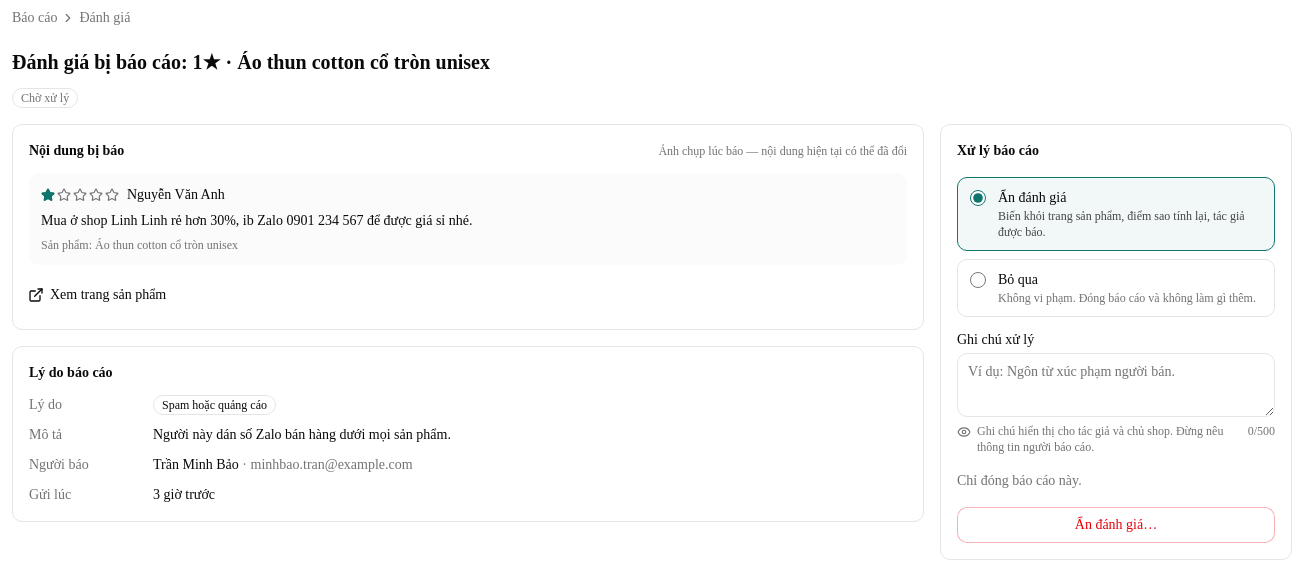
Test: AdminReportDetailContainer (trang chi tiết — phương án A) › luồng xử lý › chưa nhập ghi chú cho hành động huỷ bỏ ⇒ KHÔNG mở hộp thoại xác nhận, KHÔNG gọi API
Check: the heading "Xử lý báo cáo" is shown, box [957, 143, 1039, 158]
Click the button "Ẩn đánh giá…" at [1116, 525], box [957, 507, 1275, 543]
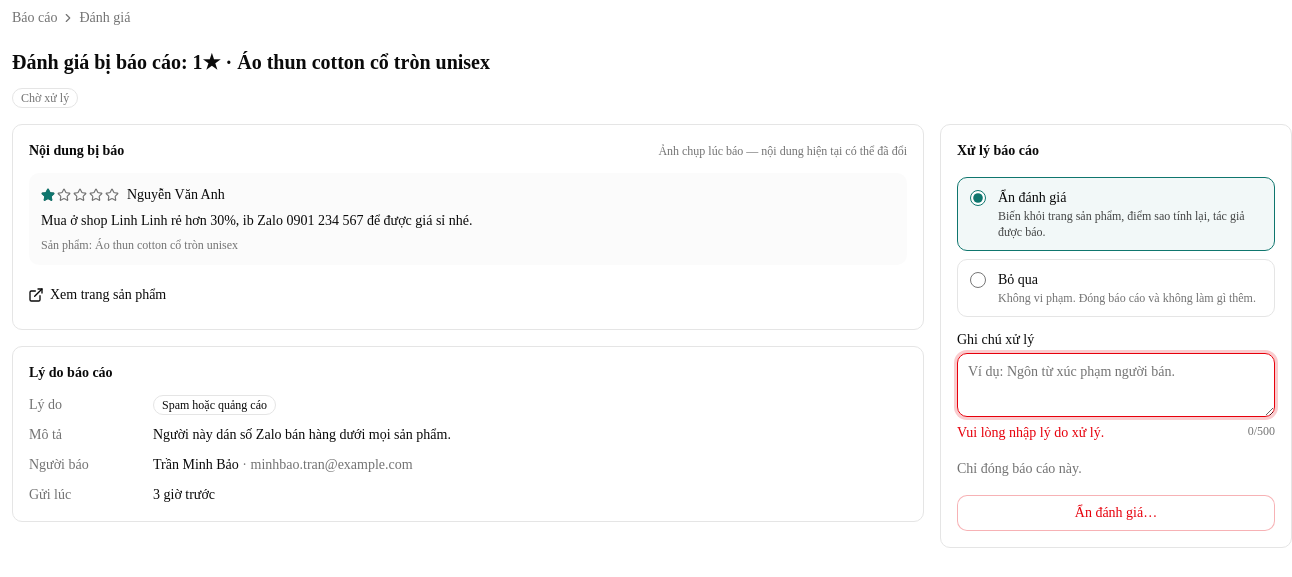
Check: the text "Vui lòng nhập lý do xử lý." is shown, box [957, 423, 1104, 443]
